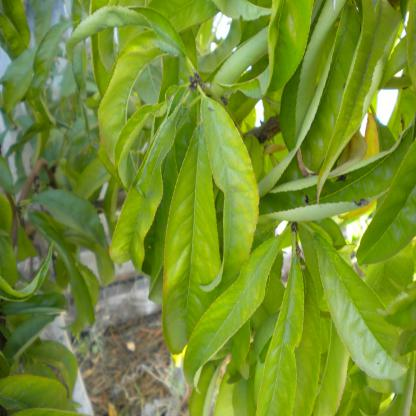Peach leaf: (312, 3, 402, 192), (182, 231, 289, 387), (105, 101, 190, 281), (161, 113, 221, 365), (311, 227, 403, 381), (193, 82, 257, 299), (88, 35, 170, 195), (256, 250, 308, 416), (110, 95, 167, 200)
